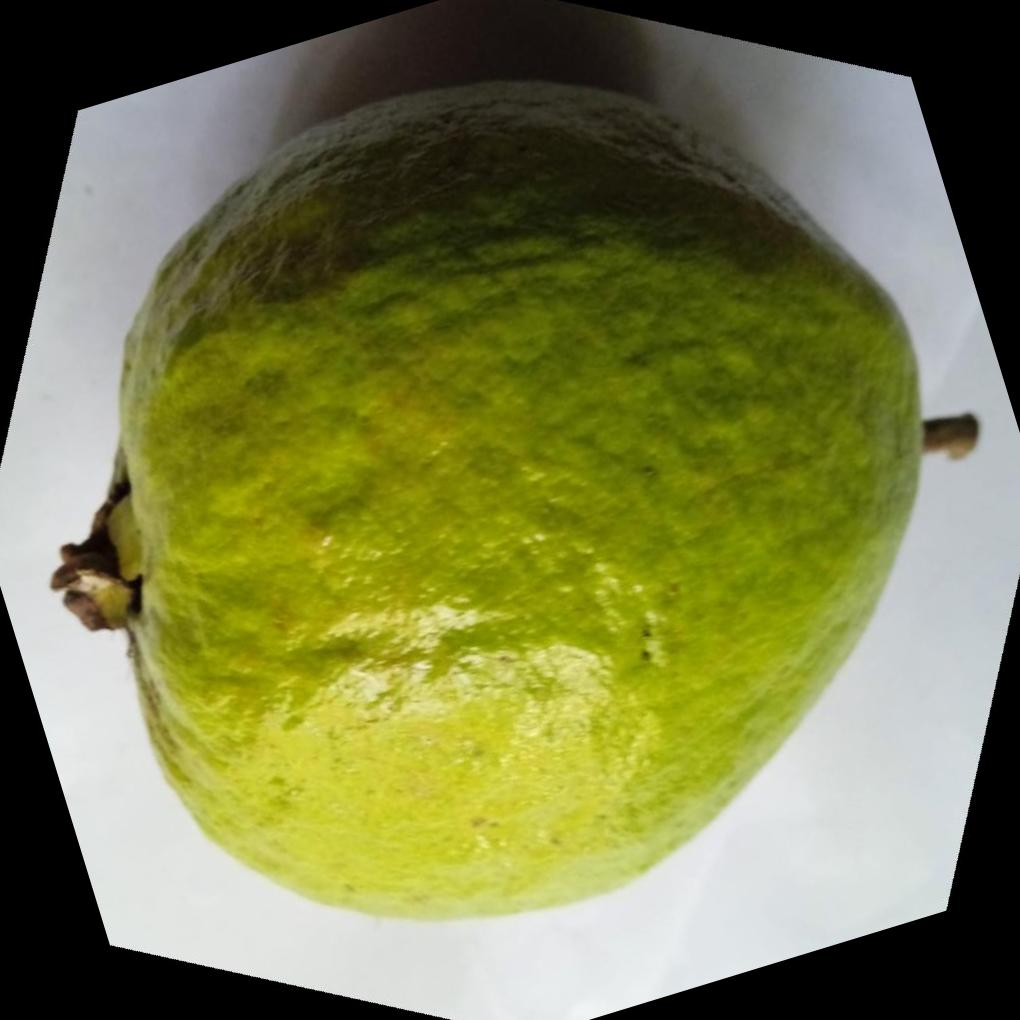FreshGuava: (51, 76, 934, 924)
